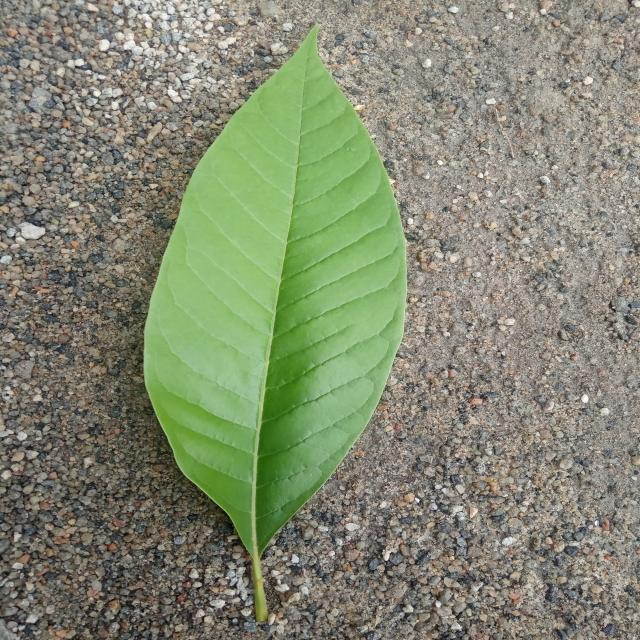coffee: (143, 26, 407, 621)
